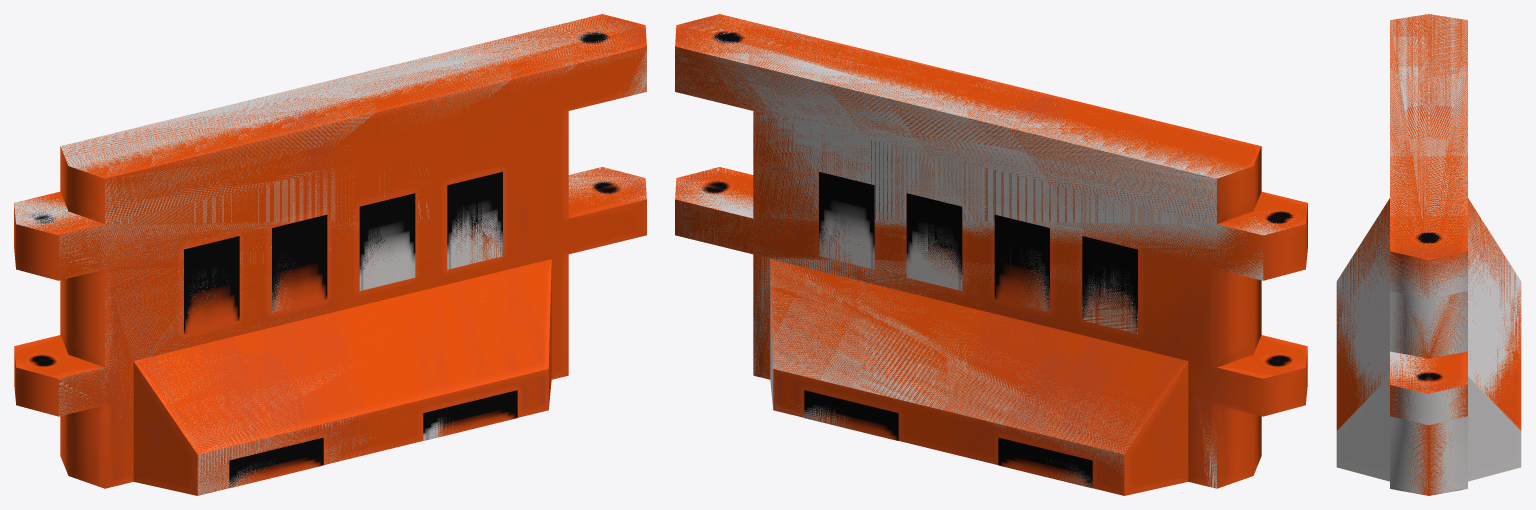
File: Prop_PlasticBarrier Set01_01.FBX
3 renders of one model, left to right at view 1: azimuth 30°, elevation 25°; view 2: azimuth 150°, elevation 25°; view 3: azimuth 270°, elevation 25°, orthographic. The views are drawn at different scales.
Parts seen in each view (by area): view 1: Prop_PlasticBarrier2_01, Prop_PlasticBarrier1_01; view 2: Prop_PlasticBarrier2_01, Prop_PlasticBarrier1_01; view 3: Prop_PlasticBarrier1_01, Prop_PlasticBarrier2_01.
Part boxes in pixels (box(x1,y1,x2,y2)): Prop_PlasticBarrier2_01: box(14, 14, 646, 495); Prop_PlasticBarrier1_01: box(14, 16, 646, 495); Prop_PlasticBarrier2_01: box(675, 14, 1307, 495); Prop_PlasticBarrier1_01: box(675, 15, 1297, 488); Prop_PlasticBarrier1_01: box(1336, 14, 1521, 495); Prop_PlasticBarrier2_01: box(1336, 14, 1521, 495).
Size of the model in its own units: 256 by 120 by 74.75.
